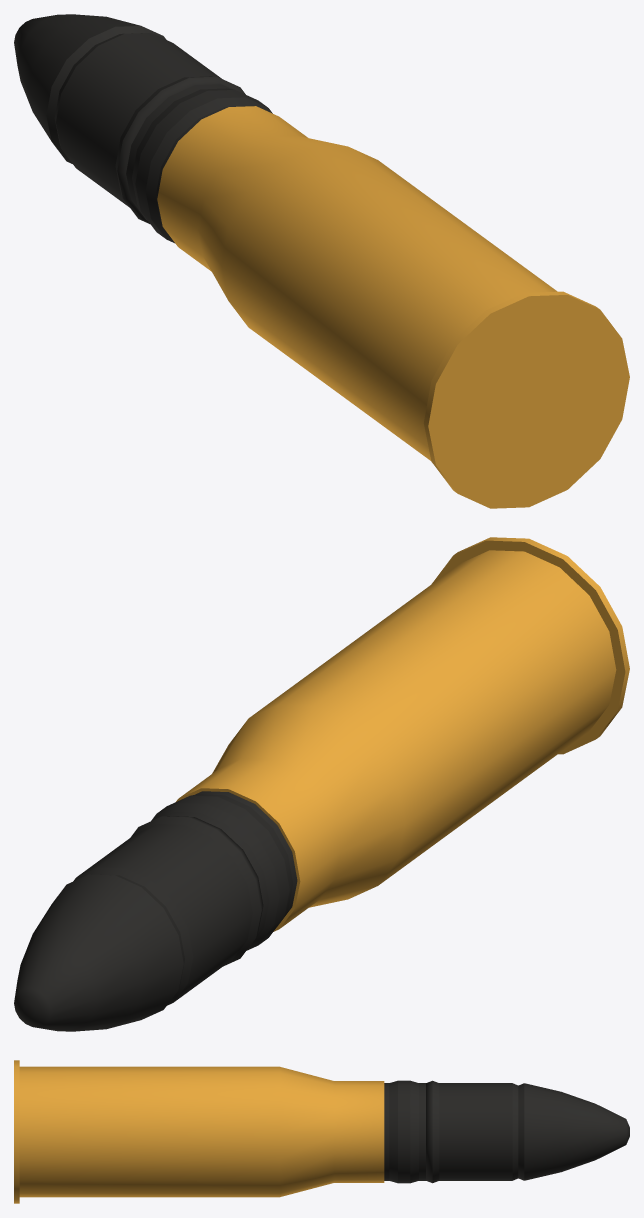
The model's file is apcr_shell_75panther.fbx.
The picture shows the model from 3 angles, top to bottom: view 1: azimuth 30°, elevation 25°; view 2: azimuth 150°, elevation 25°; view 3: azimuth 270°, elevation 25°; orthographic projection. The views are drawn at different scales.
Parts seen in each view (by area): view 1: Cylinder; view 2: Cylinder; view 3: Cylinder.
Boxes of the visible parts, <box> form: Cylinder: <box>14,14,629,508</box>; Cylinder: <box>14,537,629,1031</box>; Cylinder: <box>14,1060,629,1203</box>.
Bounding box in the file's own units: 110 × 110 × 472.
